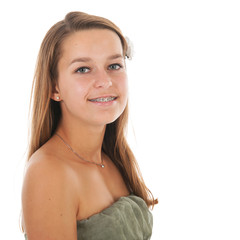teen: (44, 17, 136, 126)
